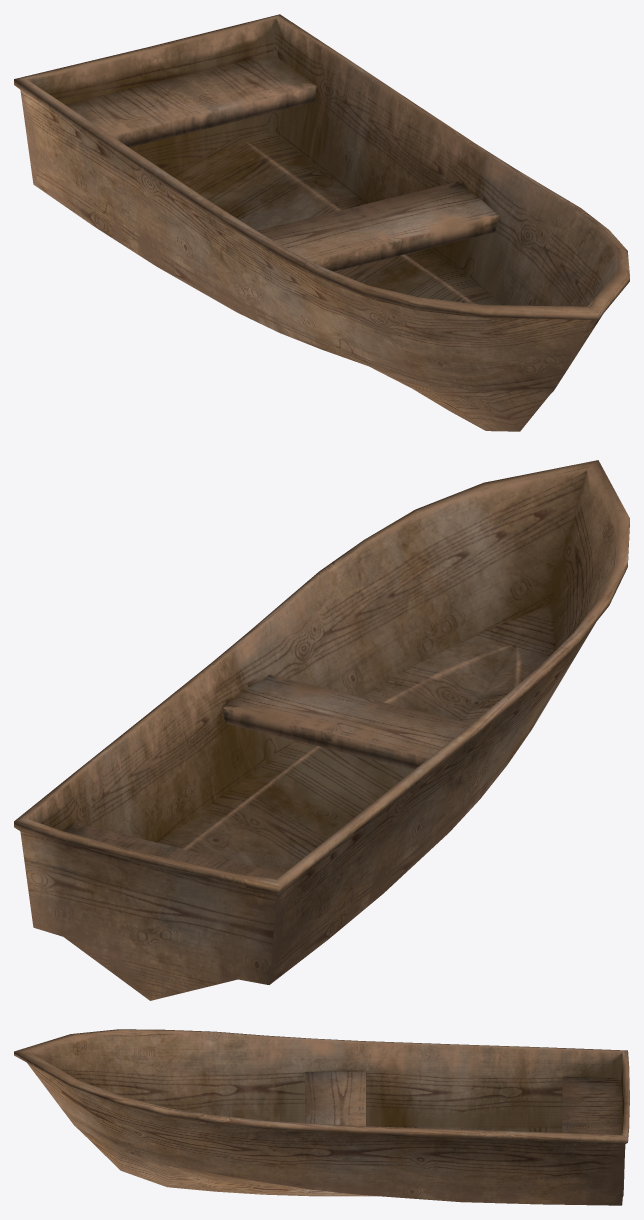
The model's file is row_boat.glb.
3 renders of one model, top to bottom at view 1: azimuth 30°, elevation 25°; view 2: azimuth 150°, elevation 25°; view 3: azimuth 270°, elevation 25°, orthographic. The views are drawn at different scales.
Parts seen in each view (by area): view 1: Object_2; view 2: Object_2; view 3: Object_2.
Boxes of the visible parts, x1,y1,x2,y2 form: Object_2: (14, 14, 629, 431); Object_2: (14, 460, 629, 1000); Object_2: (14, 1029, 629, 1205).
Size of the model in its own units: 1.38 by 1.05 by 4.06.
Materials: 1 (1 with a texture image).
